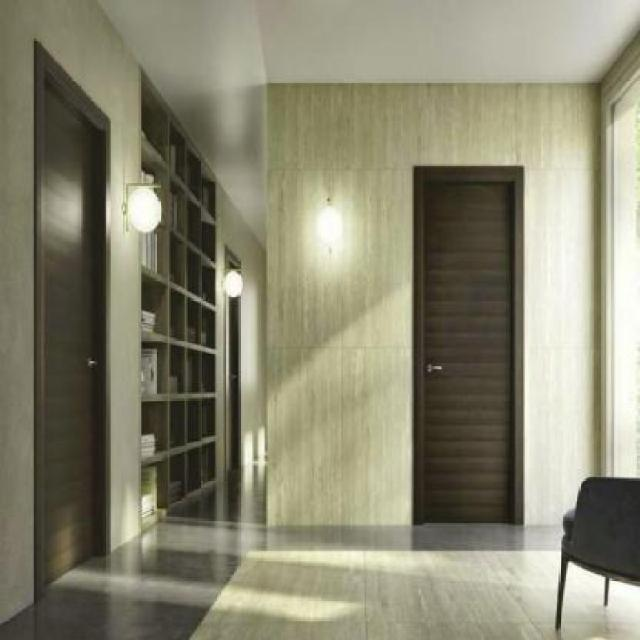door: (28, 35, 112, 602), (410, 162, 526, 530), (216, 244, 244, 482)
